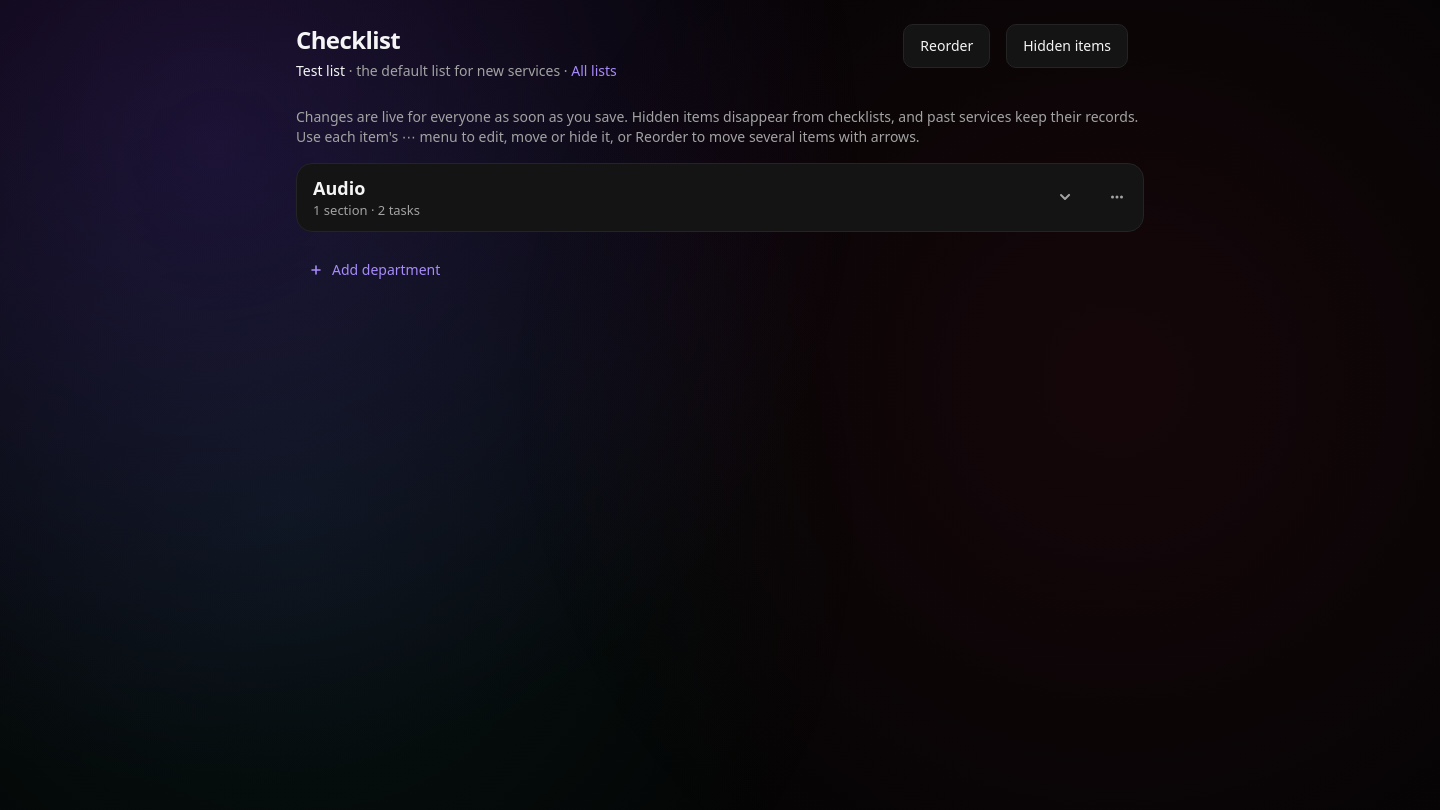
Test: checklist editor › never hides without confirming, and says what goes with it
Expected: the text "Audio" is shown, [313,176,365,200]
Click the button named "Actions for department: Audio" at (1117, 197), box [1095,175,1139,219]
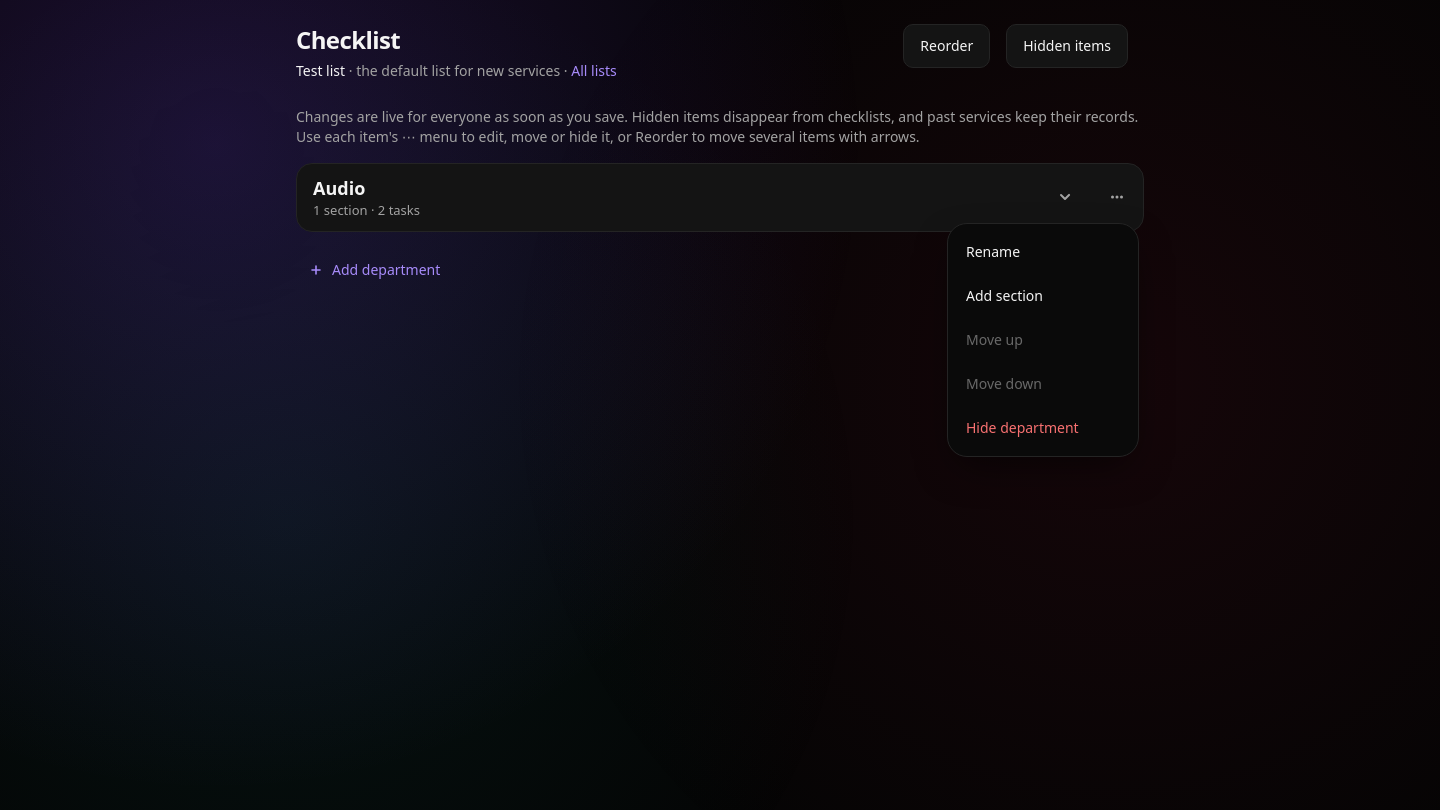
Click the button "Hide department" at (1043, 428), box [954,406,1132,450]
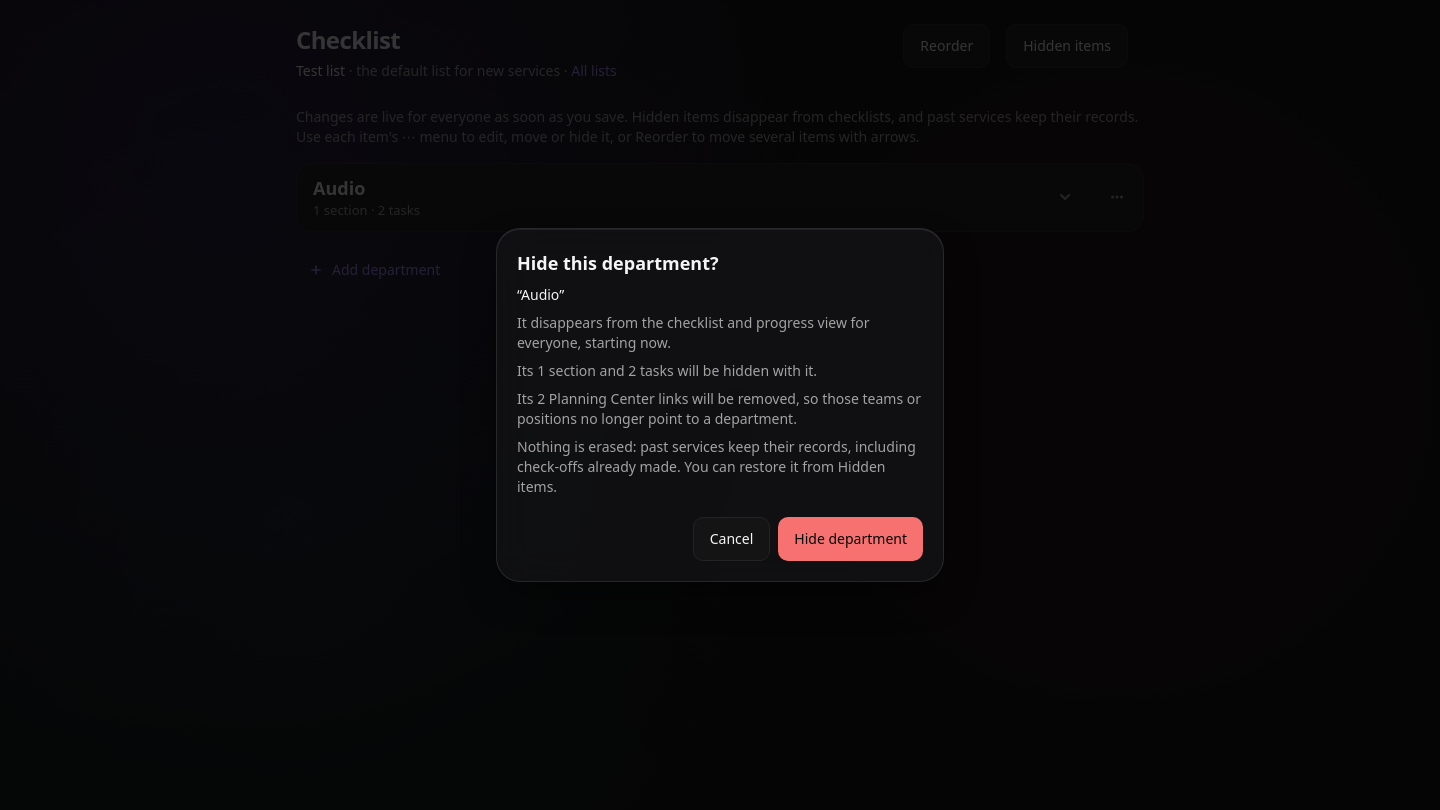
Expected: the dialog "Hide this department?" shows "Its 1 section and 2 tasks will be hidden with it.", [517,361,817,380]
Expected: the dialog "Hide this department?" shows "Its 2 Planning Center links will be removed", [517,389,921,428]
Expected: the dialog "Hide this department?" shows "past services keep their records", [517,437,916,496]
Click the button "Cancel" at (732, 539), box [693,517,770,561]
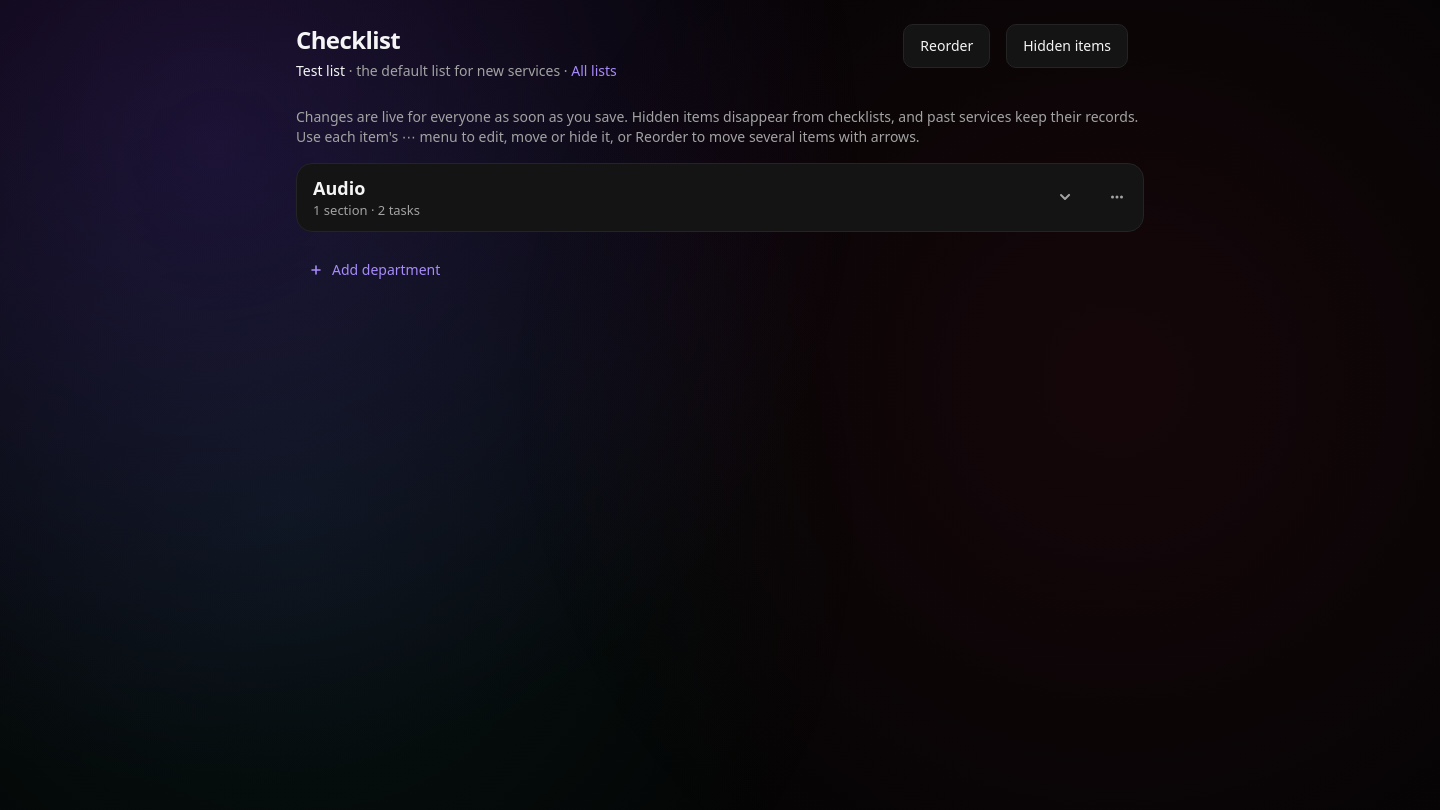
Click the button named "Actions for department: Audio" at (1117, 197), box [1095,175,1139,219]
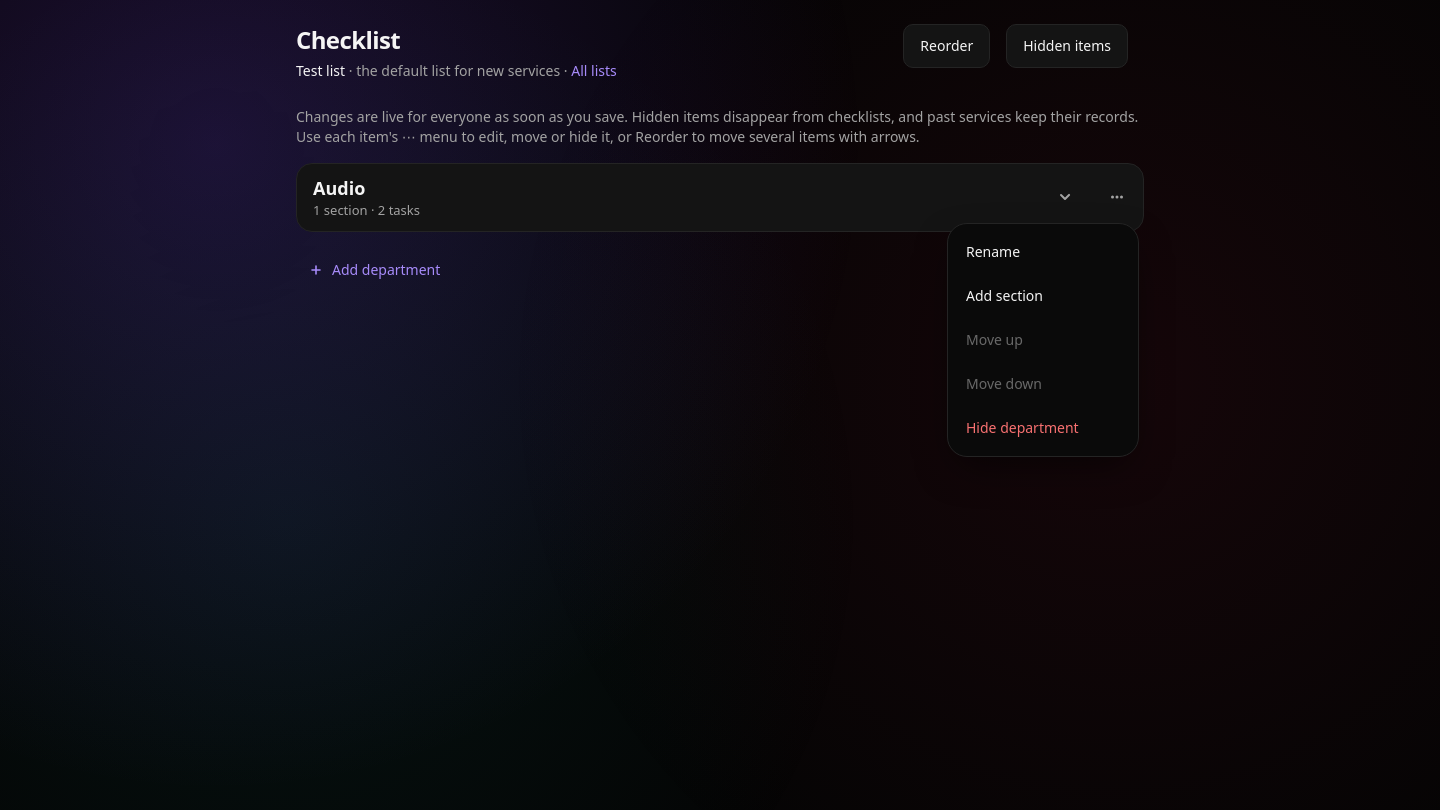
Click the button "Hide department" at (1043, 428), box [954,406,1132,450]
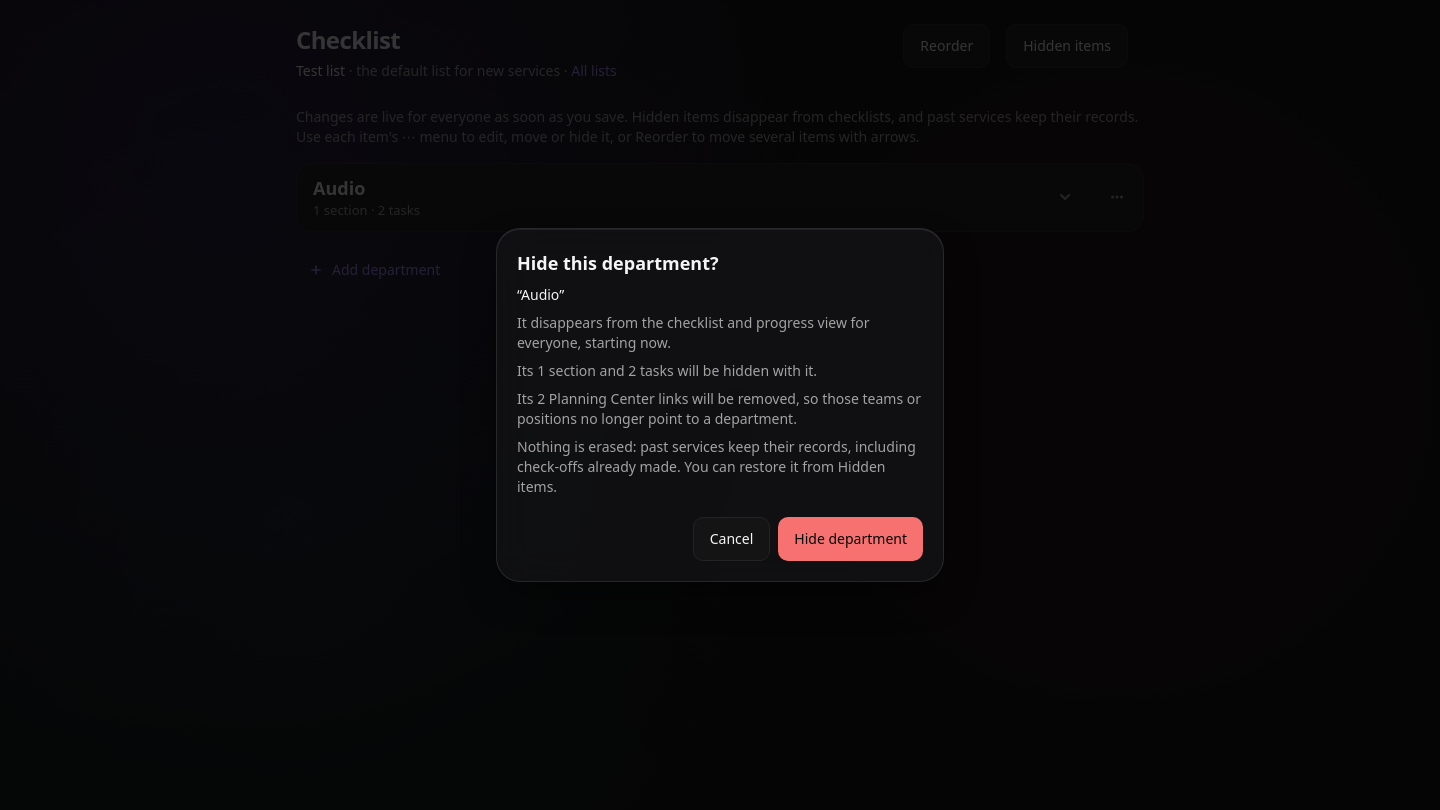
Click the button "Hide department" at (851, 539), box [778,517,923,561]
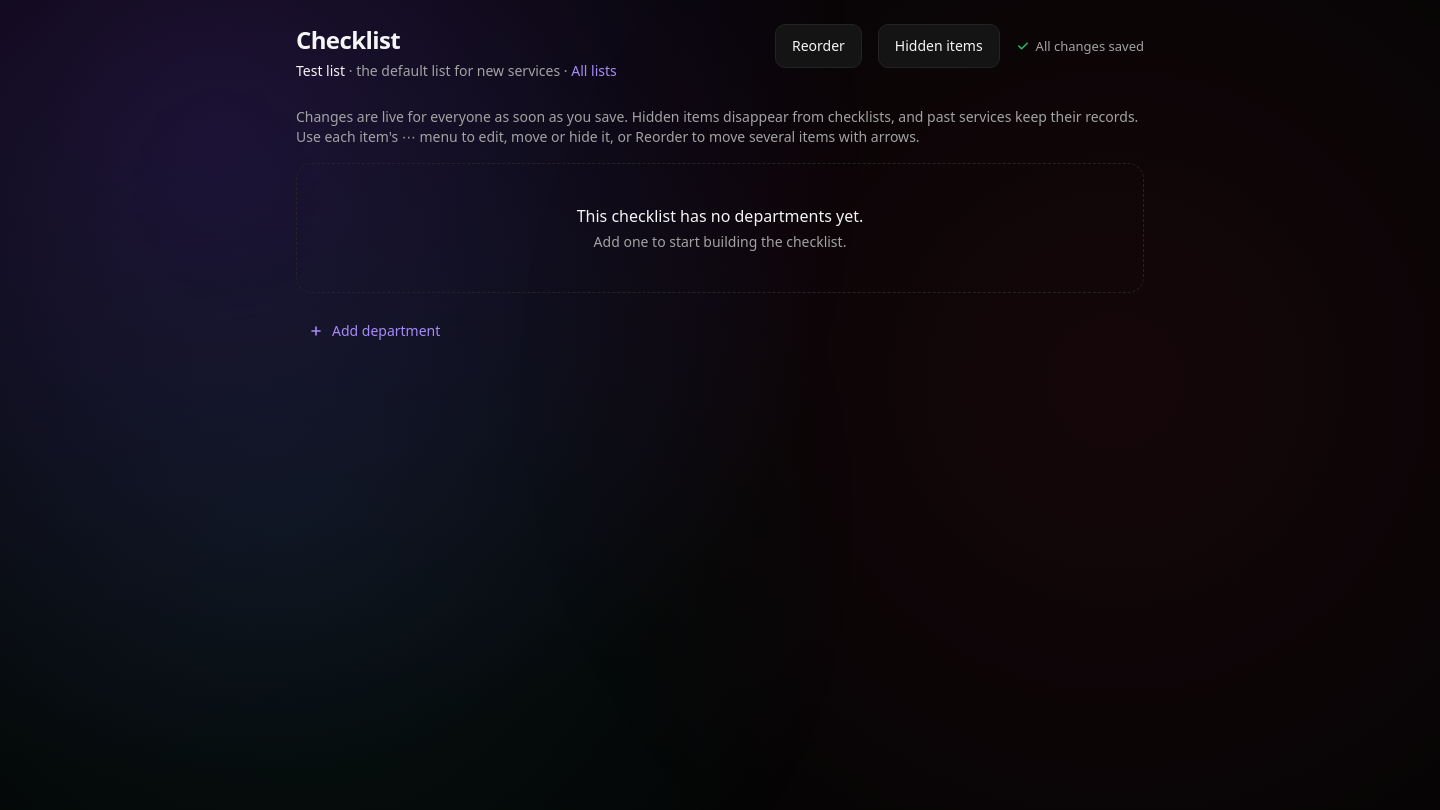
Expected: the text "This checklist has no departments yet." is shown, [577,205,863,227]
